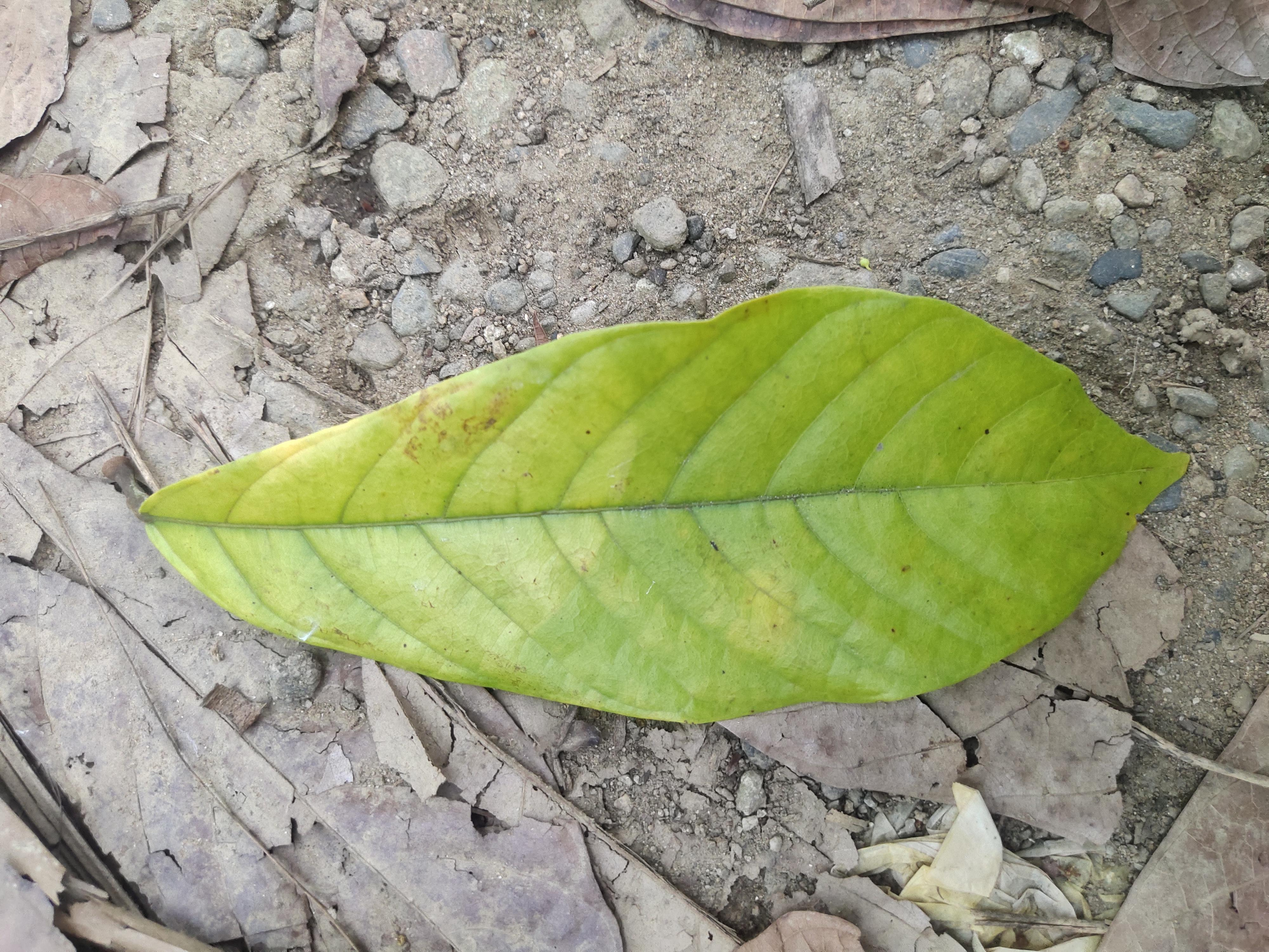deficiencia_potasio: (144, 287, 1189, 717)
